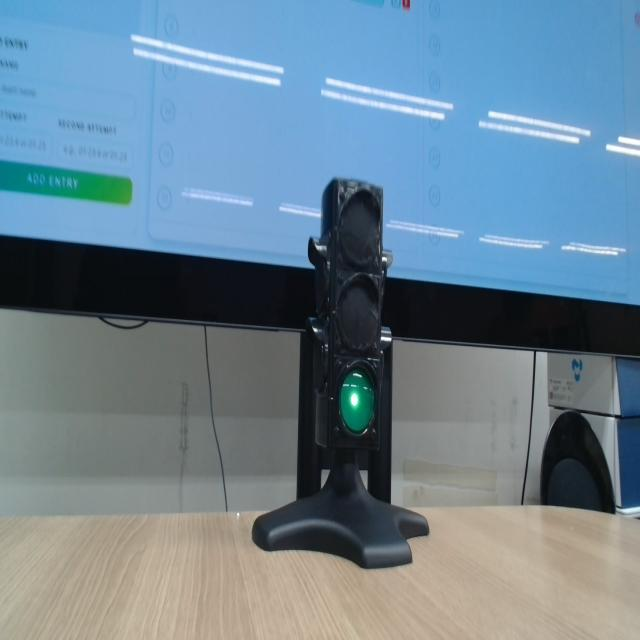green_light: (340, 369, 375, 434)
